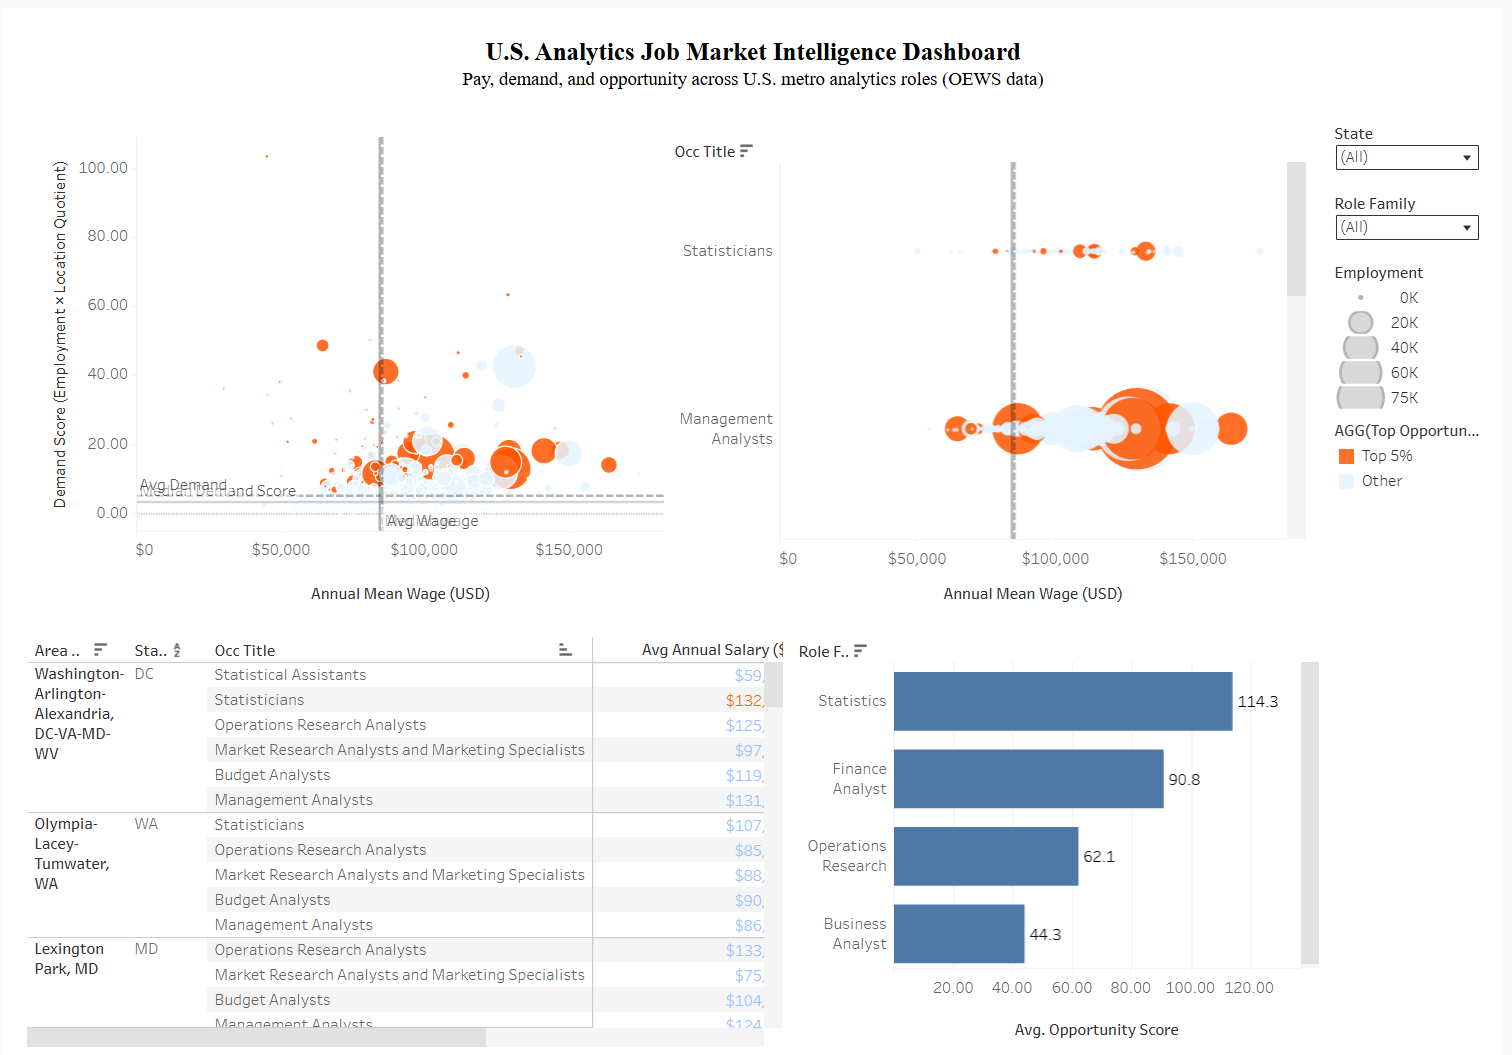

What the dashboard file says about the page in this screenshot:
{"tool":"tableau","page":{"name":"U.S. Analytics Job Market Intelligence","canvas":[1200,850],"ordinal":0},"visuals":[{"type":"text","box":[8,8,1184,73.4]},{"type":"filter","title":"Scatter Plot (Pay vs Demand)","param":"[federated.1bcm6yf0odm2wr18jt3yv1z12akn].[none:state_abbr:nk]","box":[1070,87.4,116,61]},{"type":"worksheet","title":"Scatter Plot (Pay vs Demand)","mark":"Circle","rows":["demand_score"],"cols":["annual_mean_wage"],"box":[26,99.4,512,386.6]},{"type":"worksheet","title":"Top Analytics Roles by Salary","mark":"Circle","rows":["occ_title"],"cols":["annual_mean_wage"],"box":[538,99.4,520,386.6]},{"type":"filter","title":"Scatter Plot (Pay vs Demand)","param":"[federated.1bcm6yf0odm2wr18jt3yv1z12akn].[none:role_family:nk]","box":[1070,148.4,116,61]},{"type":"legend","title":"Scatter Plot (Pay vs Demand)","param":"[federated.1bcm6yf0odm2wr18jt3yv1z12akn].[sum:employment:qk]","box":[1070,209.3,116,135]},{"type":"legend","title":"Scatter Plot (Pay vs Demand)","param":"[federated.1bcm6yf0odm2wr18jt3yv1z12akn].[usr:Calculation_0271600304267264:nk:3]","box":[1070,344.3,116,72]},{"type":"worksheet","title":"Top Metro Analytics Opportunities","mark":"Text","rows":["area_name","state_abbr","occ_title"],"box":[15,499,613,336]},{"type":"worksheet","title":"Role Family – Opportunity Summary","mark":"Automatic","rows":["role_family"],"cols":["opportunity_score"],"box":[628,499,441,336]}]}

Visuals, with their boxes in screenshot pixels (x1, y1, x2, y2), scaled from the page's 1200x850 canvas onto the 1512x1055 screenshot:
text: left=10, top=10, right=1502, bottom=101
"Scatter Plot (Pay vs Demand)" filter: left=1348, top=108, right=1494, bottom=184
"Scatter Plot (Pay vs Demand)" worksheet (Circle marks): left=33, top=123, right=678, bottom=603
"Top Analytics Roles by Salary" worksheet (Circle marks): left=678, top=123, right=1333, bottom=603
"Scatter Plot (Pay vs Demand)" filter: left=1348, top=184, right=1494, bottom=260
"Scatter Plot (Pay vs Demand)" legend: left=1348, top=260, right=1494, bottom=427
"Scatter Plot (Pay vs Demand)" legend: left=1348, top=427, right=1494, bottom=517
"Top Metro Analytics Opportunities" worksheet (Text marks): left=19, top=619, right=791, bottom=1036
"Role Family – Opportunity Summary" worksheet: left=791, top=619, right=1347, bottom=1036
